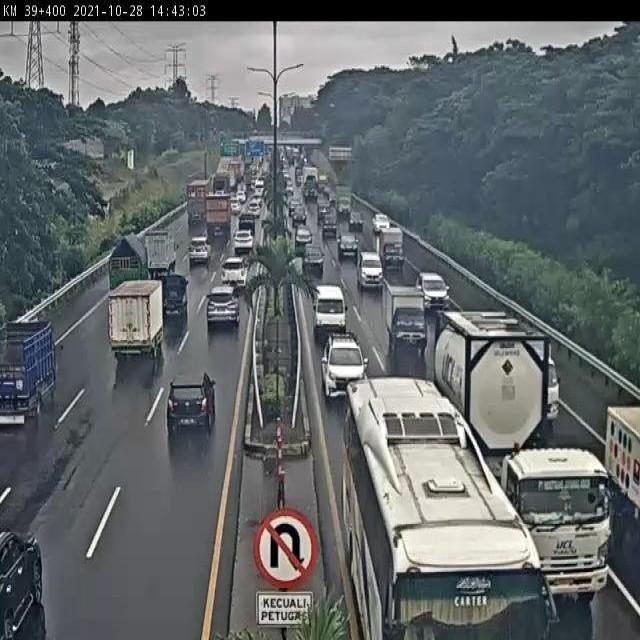big truck: (206, 200, 230, 243)
car: (166, 370, 219, 438), (323, 332, 367, 404), (313, 285, 348, 347), (416, 272, 450, 315), (207, 286, 239, 326), (360, 252, 384, 293), (302, 243, 327, 276), (338, 232, 361, 264), (226, 249, 251, 276), (294, 227, 316, 254), (188, 235, 210, 262), (322, 211, 340, 240), (371, 209, 390, 235), (235, 221, 255, 244), (351, 212, 367, 239), (293, 208, 308, 228)
small truck: (435, 308, 610, 597), (0, 320, 55, 423), (109, 280, 166, 367), (383, 280, 428, 352), (109, 236, 145, 296), (143, 228, 177, 273), (379, 226, 407, 270), (159, 273, 186, 315)
